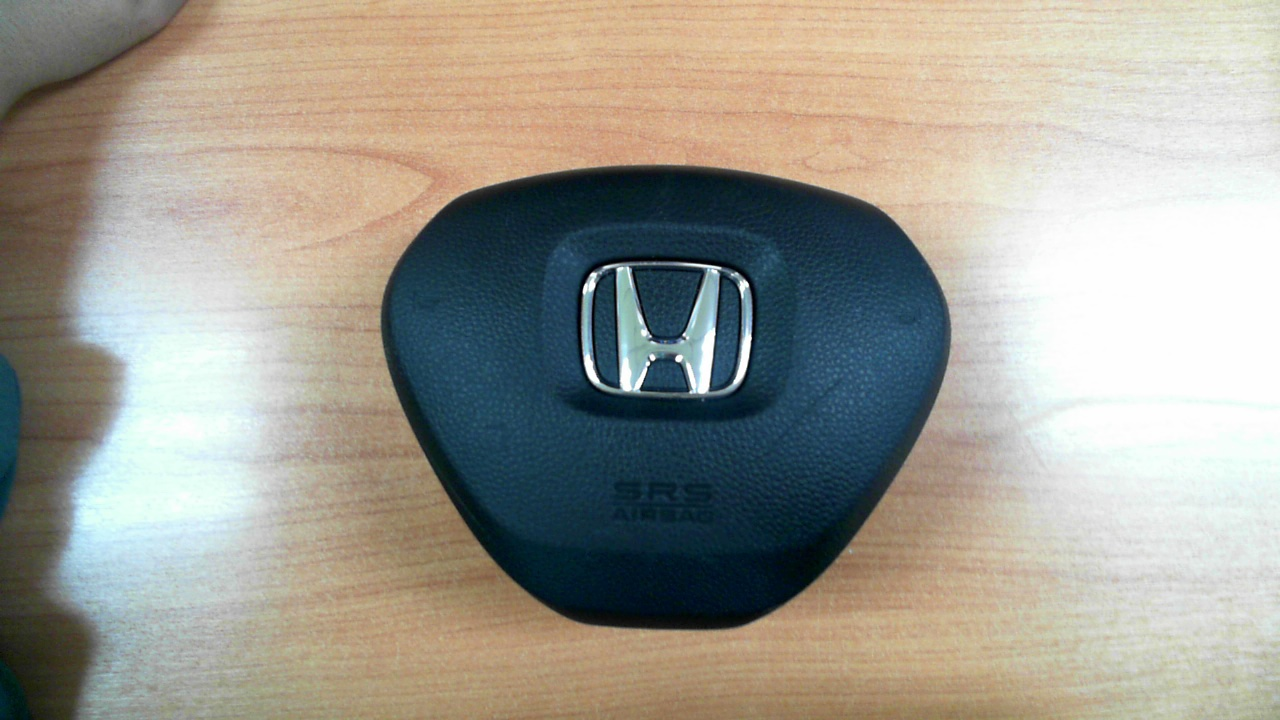Airbag: (379, 164, 952, 631)
Honda: (580, 261, 753, 395)
